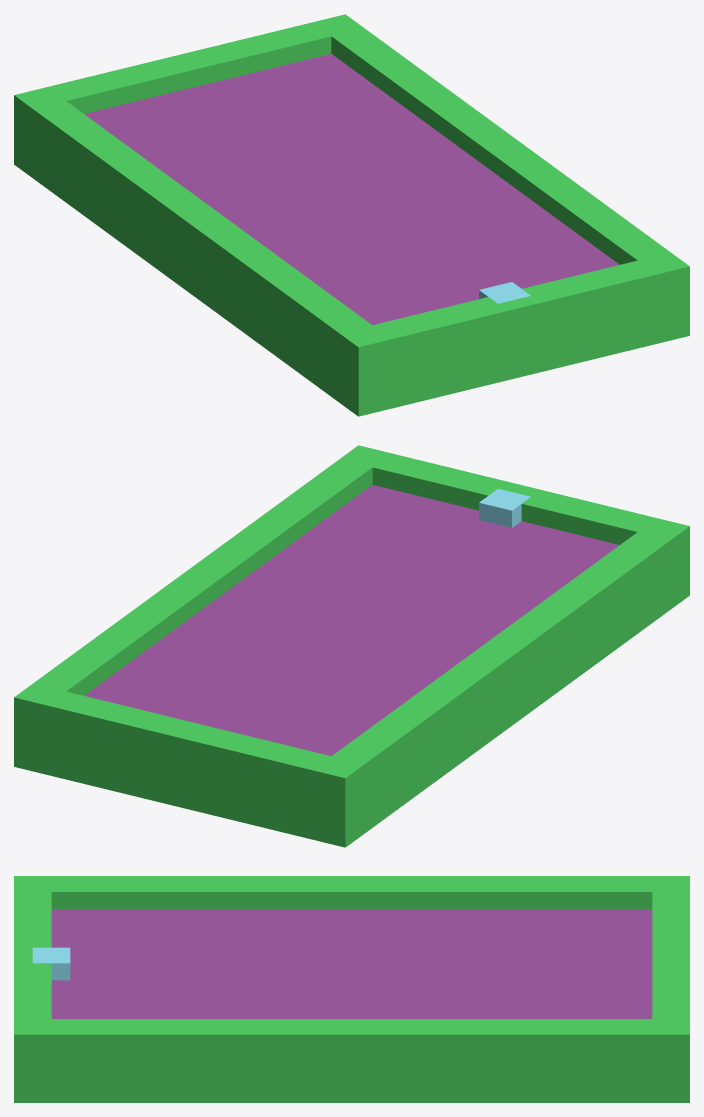
File: Phone.fbx
3 renders of one model, top to bottom at view 1: azimuth 30°, elevation 25°; view 2: azimuth 150°, elevation 25°; view 3: azimuth 270°, elevation 25°, orthographic.
Visible parts, largest first — view 1: default; view 2: default; view 3: default.
Part boxes in pixels (x1,y1,x2,y2): default: (14,14,689,416); default: (14,445,689,847); default: (14,876,689,1102).
Bounding box in the file's own units: 20 × 4 × 36.
